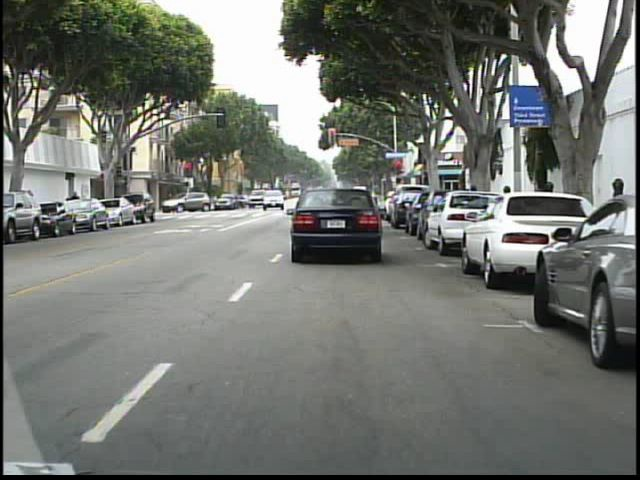person: (68, 186, 86, 224), (168, 190, 183, 217)
